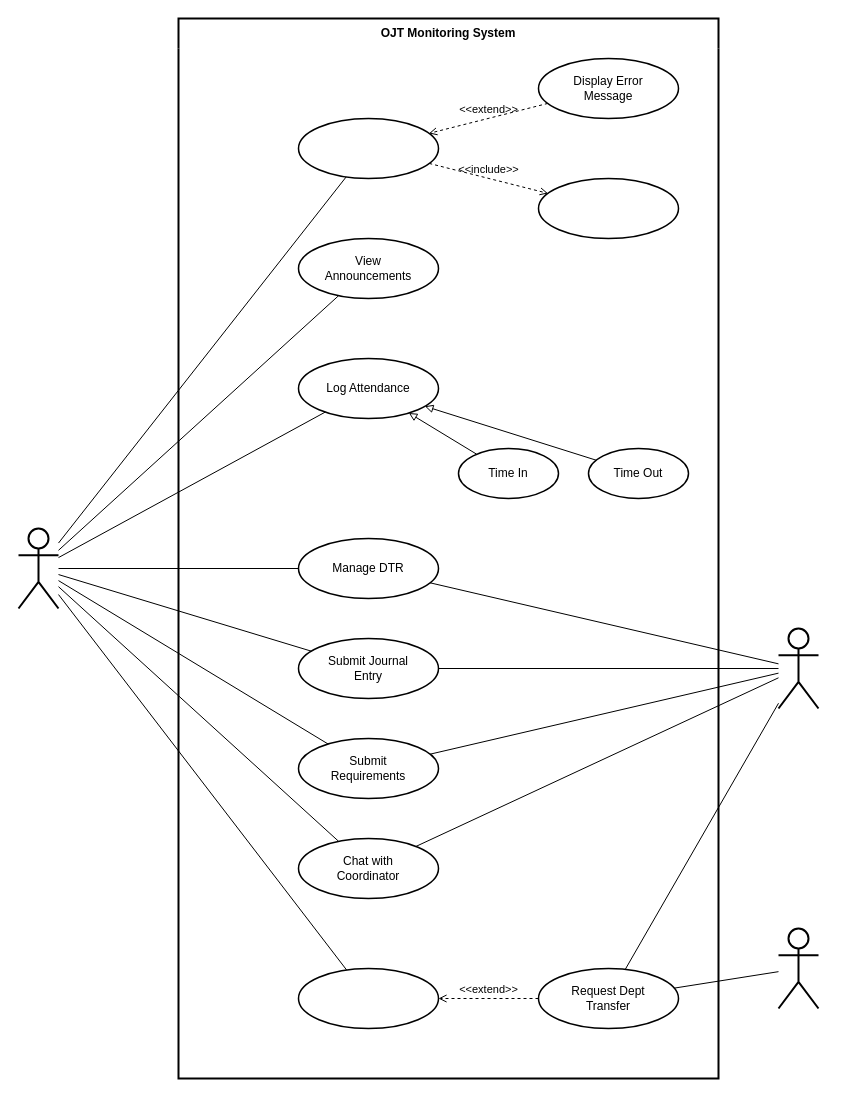
Image size: 847x1096. Some labels were removed from this diagram. Here are the shapes that lost their labels. From the top down, the centre of each, then its label:
(x=368, y=148): Login
(x=608, y=208): Verify Credentials
(x=38, y=568): Student
(x=798, y=668): Coordinator
(x=798, y=968): Admin
(x=368, y=998): Manage Profile
